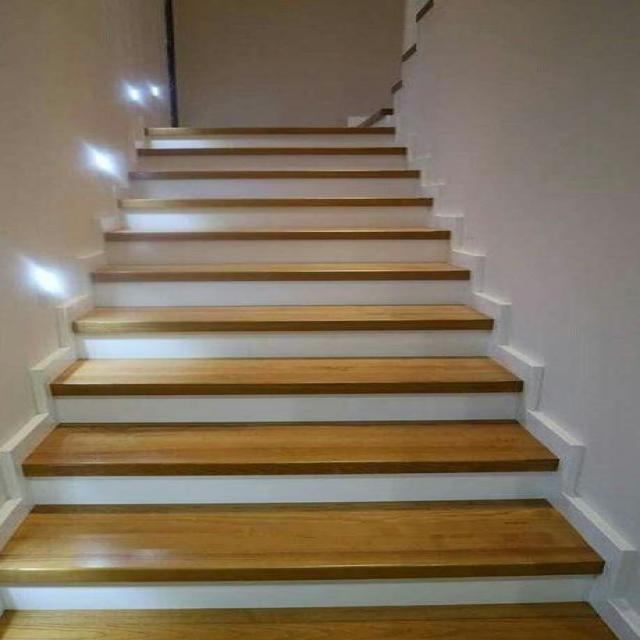Stairs: (40, 45, 602, 640)
